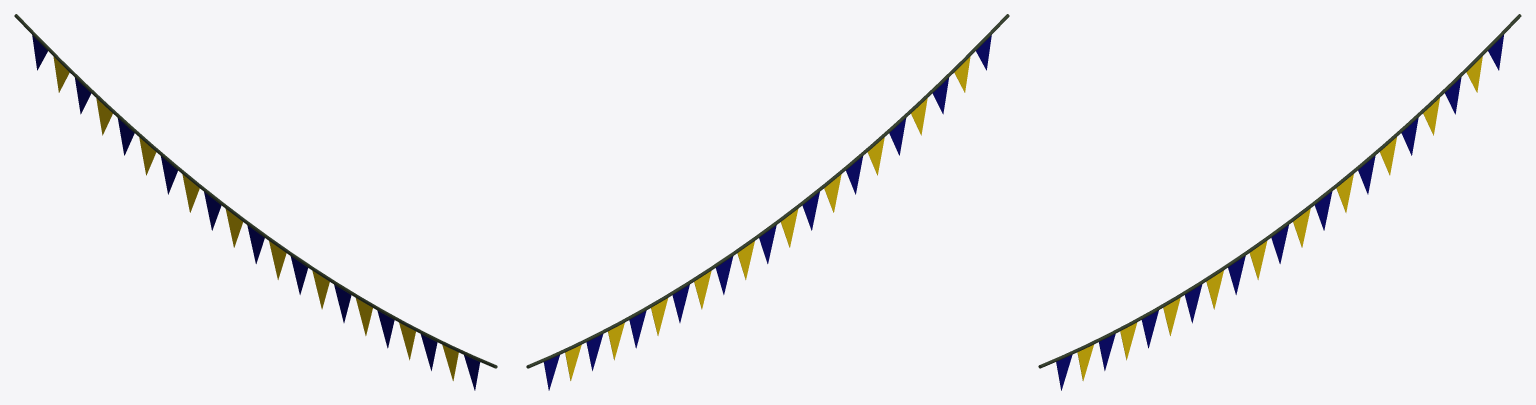
Rendered from Banderitas long.fbx.
The picture shows the model from 3 angles, left to right: view 1: azimuth 30°, elevation 25°; view 2: azimuth 150°, elevation 25°; view 3: azimuth 330°, elevation 25°; orthographic projection.
Parts seen in each view (by area): view 1: Banderitas, Banderita wires; view 2: Banderitas, Banderita wires; view 3: Banderitas, Banderita wires.
Boxes of the visible parts, <box> form: Banderitas: <box>32,35,480,390</box>; Banderita wires: <box>14,14,497,368</box>; Banderitas: <box>543,35,991,390</box>; Banderita wires: <box>526,14,1009,368</box>; Banderitas: <box>1056,35,1503,390</box>; Banderita wires: <box>1038,14,1521,368</box>.
Size of the model in its own units: 27.72 by 657 by 7652.
